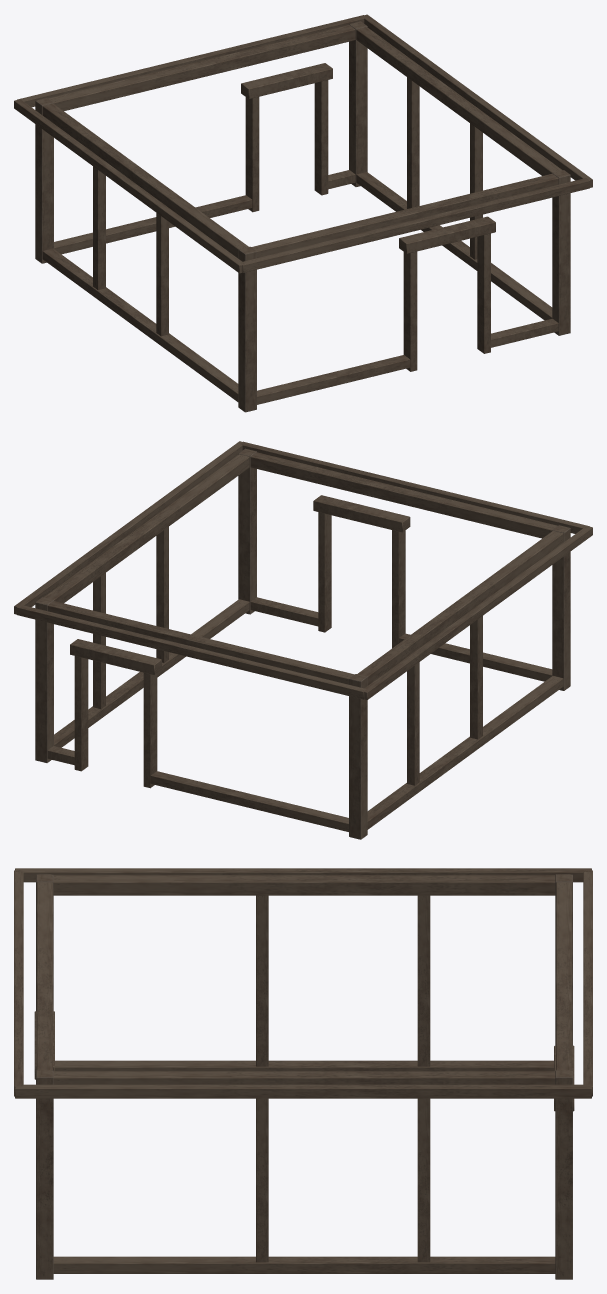
File: BW_Bakery01_Timber.fbx
3 renders of one model, top to bottom at view 1: azimuth 30°, elevation 25°; view 2: azimuth 150°, elevation 25°; view 3: azimuth 270°, elevation 25°, orthographic. The views are drawn at different scales.
Visible parts, largest first — view 1: BW_Bakery01_Timber; view 2: BW_Bakery01_Timber; view 3: BW_Bakery01_Timber.
Boxes of the visible parts, x1=… form: BW_Bakery01_Timber: x1=14, y1=14, x2=592, y2=412; BW_Bakery01_Timber: x1=14, y1=441, x2=592, y2=839; BW_Bakery01_Timber: x1=14, y1=868, x2=592, y2=1279.
Bounding box in the file's own units: 7.44 × 3.18 × 8.25.
